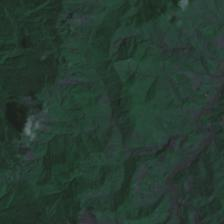landslides: (63, 0, 93, 26), (32, 110, 62, 125), (0, 10, 16, 32), (24, 122, 43, 140), (106, 139, 126, 156), (37, 120, 59, 135), (111, 33, 125, 54), (80, 207, 99, 219), (80, 215, 104, 224), (155, 31, 168, 47), (97, 185, 113, 197), (76, 0, 97, 9), (61, 79, 80, 88), (68, 75, 92, 82), (83, 14, 95, 27), (85, 114, 97, 127), (98, 114, 114, 123), (97, 154, 110, 164), (98, 103, 109, 114), (91, 13, 102, 24), (47, 101, 64, 108), (25, 167, 37, 176), (82, 190, 97, 197), (72, 68, 85, 76), (135, 92, 148, 100)
